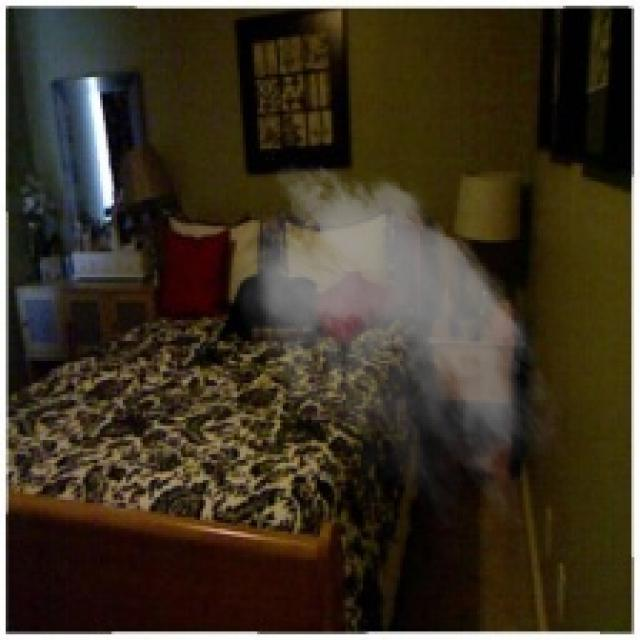smoke: (220, 152, 569, 528)
